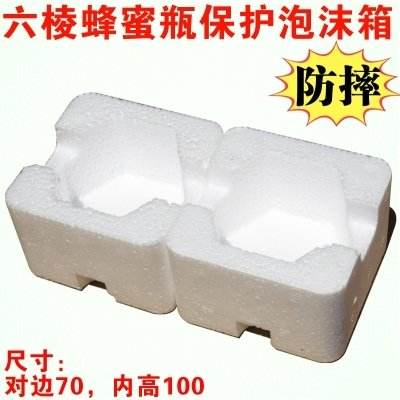5/可回收垃圾/泡沫: (5, 92, 392, 363)
